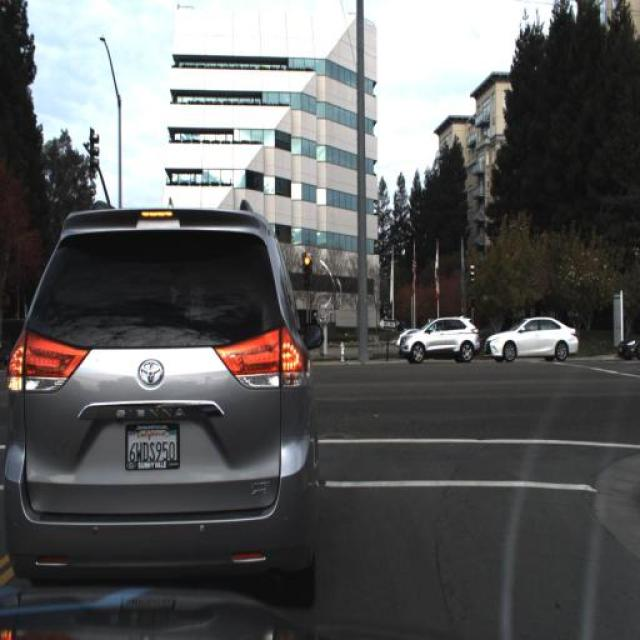car: (2, 192, 330, 607), (478, 314, 584, 374), (398, 303, 484, 368), (399, 310, 481, 366), (613, 320, 638, 371)
trafficLight-RedLeft: (300, 245, 314, 290), (304, 253, 312, 278)
